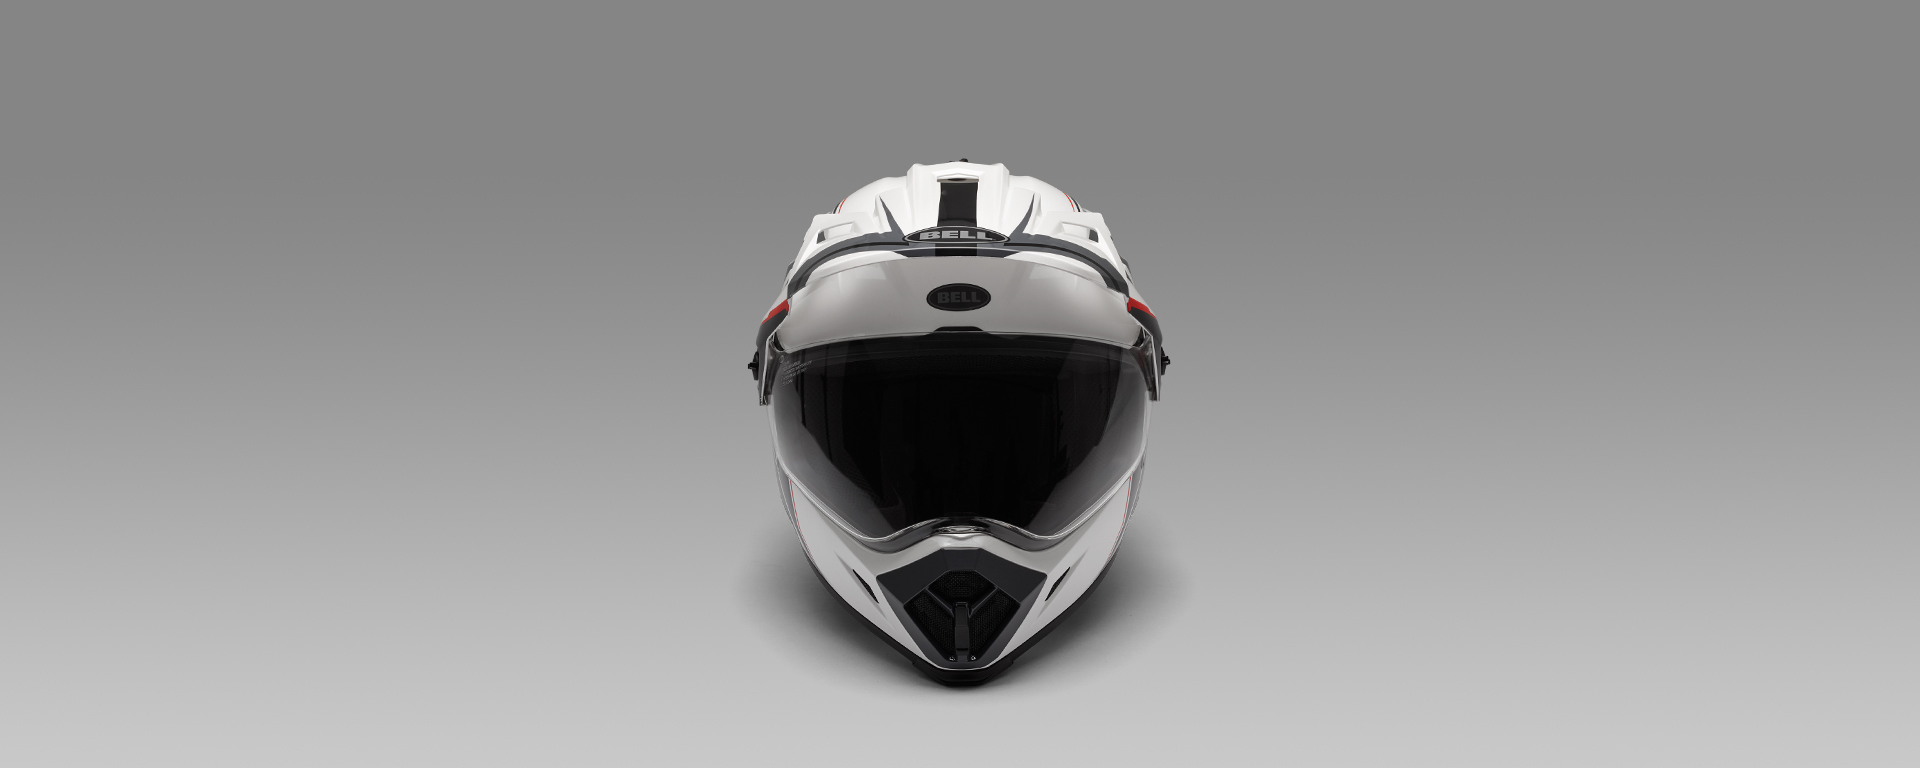with_helmet: (756, 163, 1173, 670)
